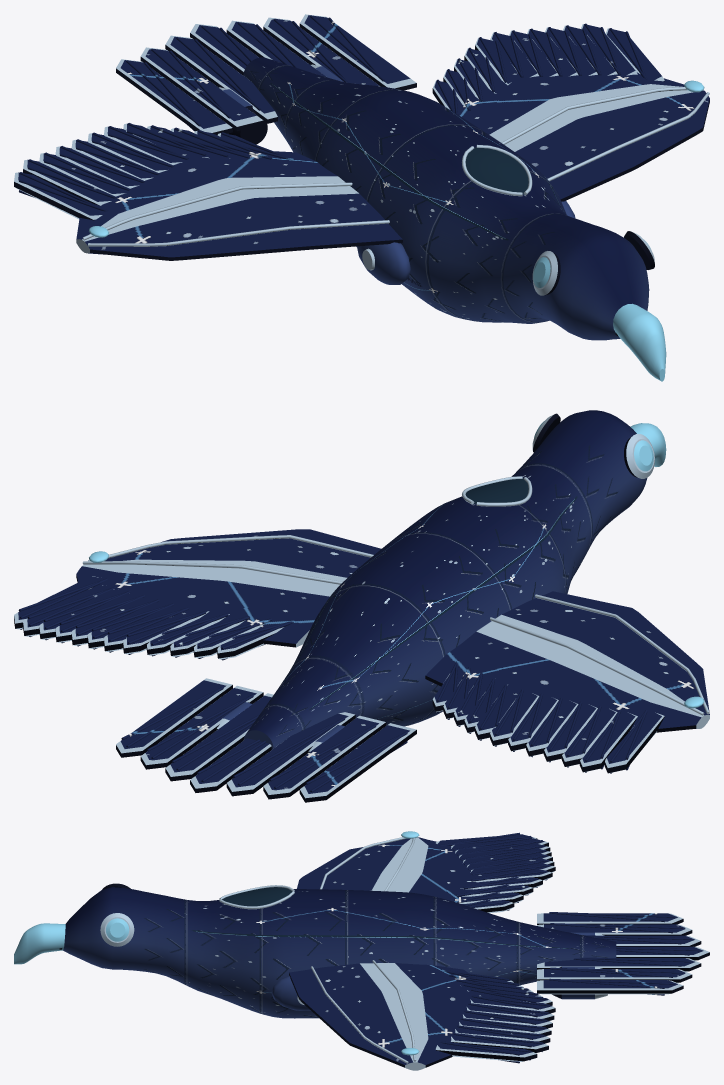
3 views of the same model, one above another, from view 1: azimuth 30°, elevation 25°; view 2: azimuth 150°, elevation 25°; view 3: azimuth 270°, elevation 25° (orthographic). The views are drawn at different scales.
Parts seen in each view (by area): view 1: oxpecker_hull; view 2: oxpecker_hull; view 3: oxpecker_hull.
Part boxes in pixels (x1,y1,x2,y2): oxpecker_hull: (14,14,709,381); oxpecker_hull: (14,410,709,802); oxpecker_hull: (14,831,709,1070).
Bounding box in the file's own units: 12.31 × 3.09 × 16.
1 material, 1 textured.
